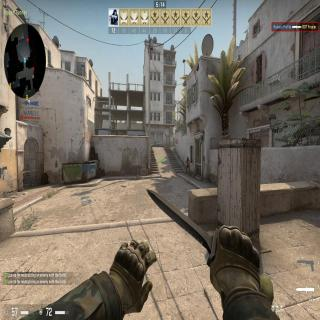T-Body: (185, 156, 191, 175)
T-Head: (187, 156, 189, 160)
